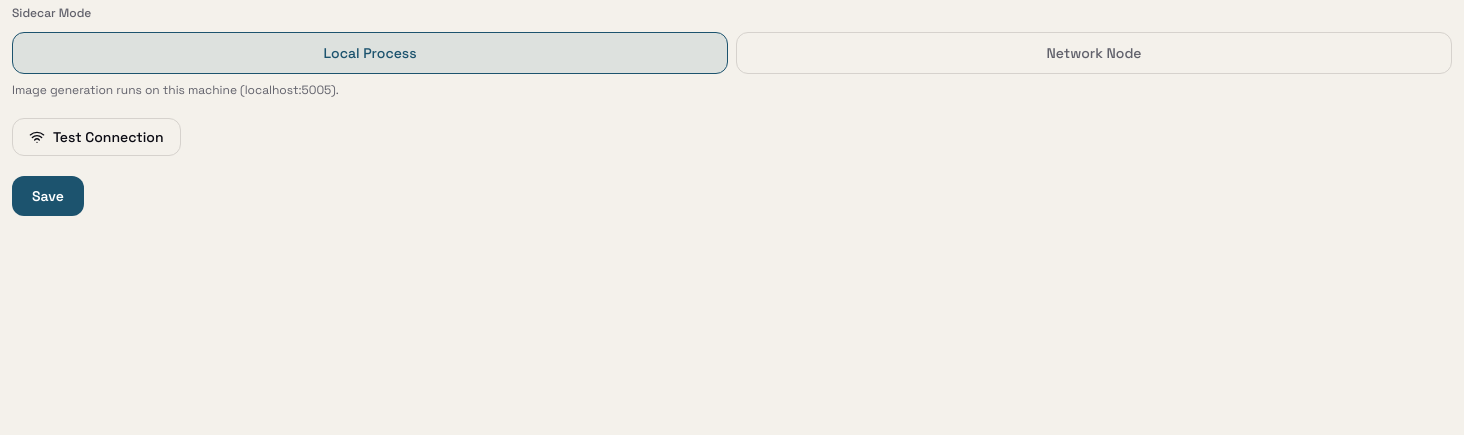
Test: ImageGenPanel › shows network config fields when switching to network mode
Click the button "Network Node". click: {"x": 1094, "y": 53}
box: 736,32 -> 1452,74
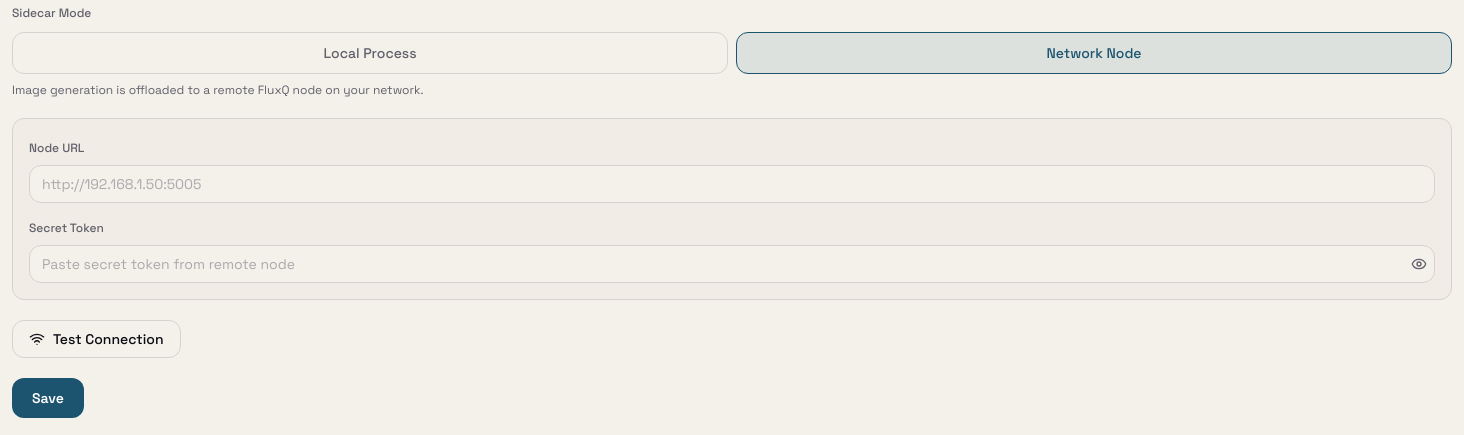
expect the text "Node URL" is shown: met, box 29,140 -> 84,156
expect the text "Secret Token" is shown: met, box 29,220 -> 104,236
expect the field with placeholder "http://192.168.1.50:5005" is shown: met, box 29,165 -> 1435,203
